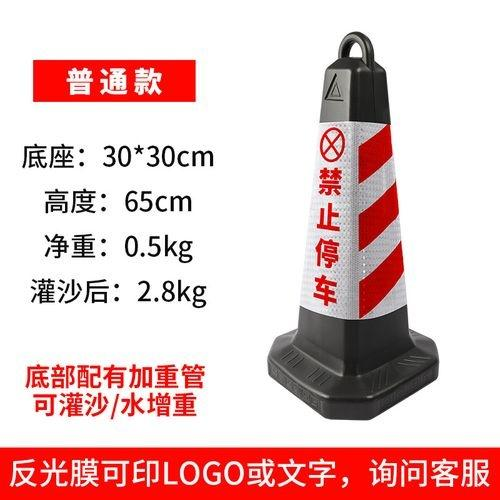cone_barrel: (258, 36, 442, 421)
